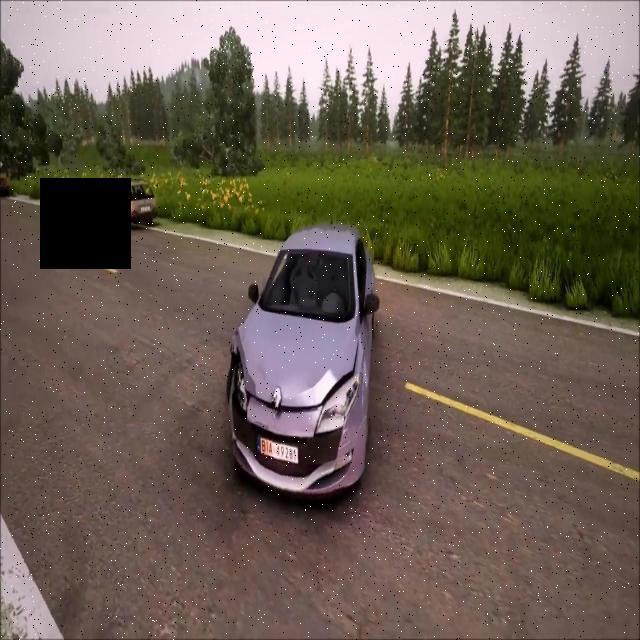moderate: (222, 216, 382, 510)
